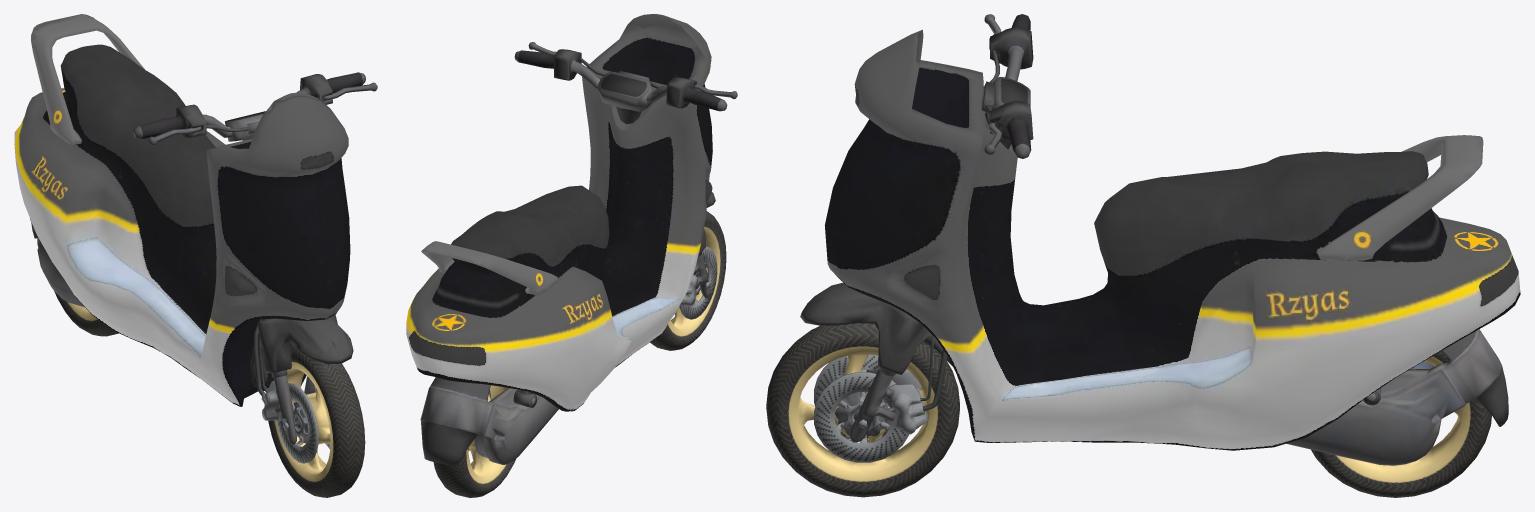
Rendered from scooter.glb.
3 views of the same model, side by side, from view 1: azimuth 30°, elevation 25°; view 2: azimuth 150°, elevation 25°; view 3: azimuth 270°, elevation 25° (orthographic). The views are drawn at different scales.
Visible parts, largest first — view 1: Object_5, Object_6, Object_4, Object_7; view 2: Object_5, Object_6, Object_4, Object_7; view 3: Object_5, Object_6, Object_4, Object_7.
Part boxes in pixels (x1,y1,x2,y2): Object_5: (14,14,350,406); Object_6: (30,72,377,445); Object_4: (54,291,365,497); Object_7: (253,325,330,463); Object_5: (406,14,712,411); Object_6: (420,42,737,466); Object_4: (433,211,726,497); Object_7: (513,246,717,407); Object_5: (824,29,1520,450); Object_6: (800,14,1508,465); Object_4: (766,323,1491,497); Object_7: (814,335,1380,462).
Size of the model in its own units: 0.9627 by 1.52 by 2.27.
Materials: 4 (4 with a texture image).
